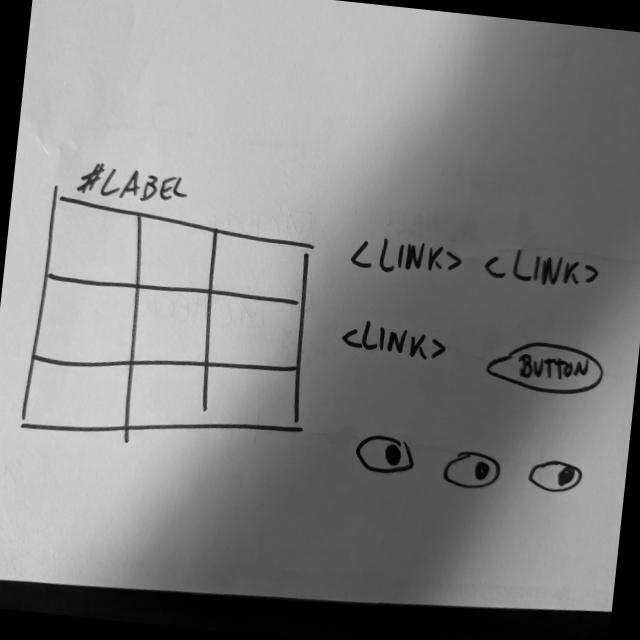button: (481, 332, 609, 401)
label: (75, 158, 193, 211)
link: (348, 230, 468, 285), (480, 241, 603, 294), (338, 315, 452, 366)
table: (16, 189, 324, 461)
toggle: (351, 429, 421, 481), (440, 444, 505, 497), (525, 456, 588, 498)
